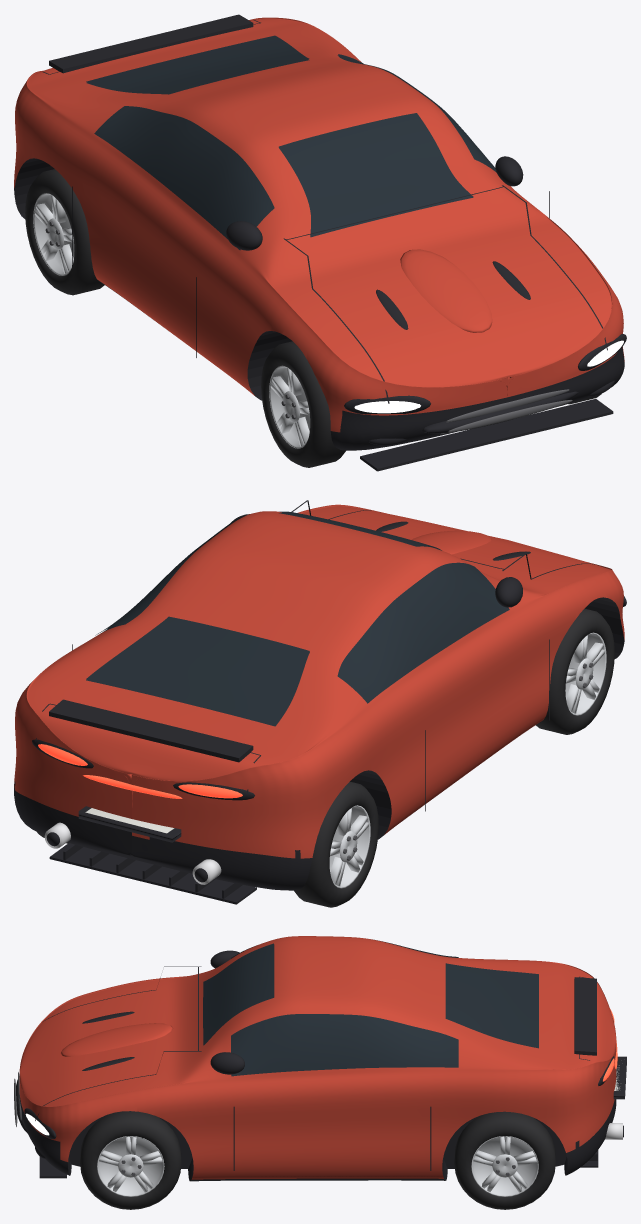
The model's file is kestrel.glb.
3 views of the same model, one above another, from view 1: azimuth 30°, elevation 25°; view 2: azimuth 150°, elevation 25°; view 3: azimuth 270°, elevation 25° (orthographic). The views are drawn at different scales.
Visible parts, largest first — view 1: a_body, b_glass, wheel_fl, wheel_rl, splitter, spoiler, grille, mirror_l, grille_bar.001, grille_bar.002, bezel_h-1, lamp_head_l (+1 smaller); view 2: a_body, b_glass, wheel_rl, wheel_fl, spoiler, diffuser, plate_recess, mirror_l, lamp_tail_l, tail_bar; view 3: a_body, b_glass, wheel_fr, wheel_rr, spoiler, mirror_r, plate_recess.
Boxes of the visible parts, box(x1,y1,x2,y2) form: a_body: box(14, 17, 624, 450); b_glass: box(86, 35, 496, 249); wheel_fl: box(261, 341, 345, 467); wheel_rl: box(25, 169, 104, 295); splitter: box(360, 399, 613, 471); spoiler: box(49, 14, 253, 73); grille: box(422, 391, 578, 433); mirror_l: box(226, 221, 262, 250); grille_bar.001: box(448, 400, 572, 432); grille_bar.002: box(445, 389, 569, 422); bezel_h-1: box(344, 395, 430, 414); lamp_head_l: box(354, 401, 420, 413); a_body: box(14, 504, 624, 890); b_glass: box(86, 511, 509, 725); wheel_rl: box(294, 781, 378, 907); wheel_fl: box(536, 608, 614, 734); spoiler: box(49, 699, 253, 762); diffuser: box(49, 843, 256, 904); plate_recess: box(78, 806, 181, 842); mirror_l: box(495, 577, 522, 607); lamp_tail_l: box(178, 784, 242, 798); tail_bar: box(83, 775, 182, 798); a_body: box(19, 936, 616, 1181); b_glass: box(203, 939, 538, 1076); wheel_fr: box(80, 1111, 181, 1209); wheel_rr: box(454, 1111, 555, 1209); spoiler: box(574, 977, 596, 1055); mirror_r: box(210, 1052, 244, 1074); plate_recess: box(613, 1056, 626, 1099).
Bounding box in the file's own units: 2 × 1.3 × 3.8.
